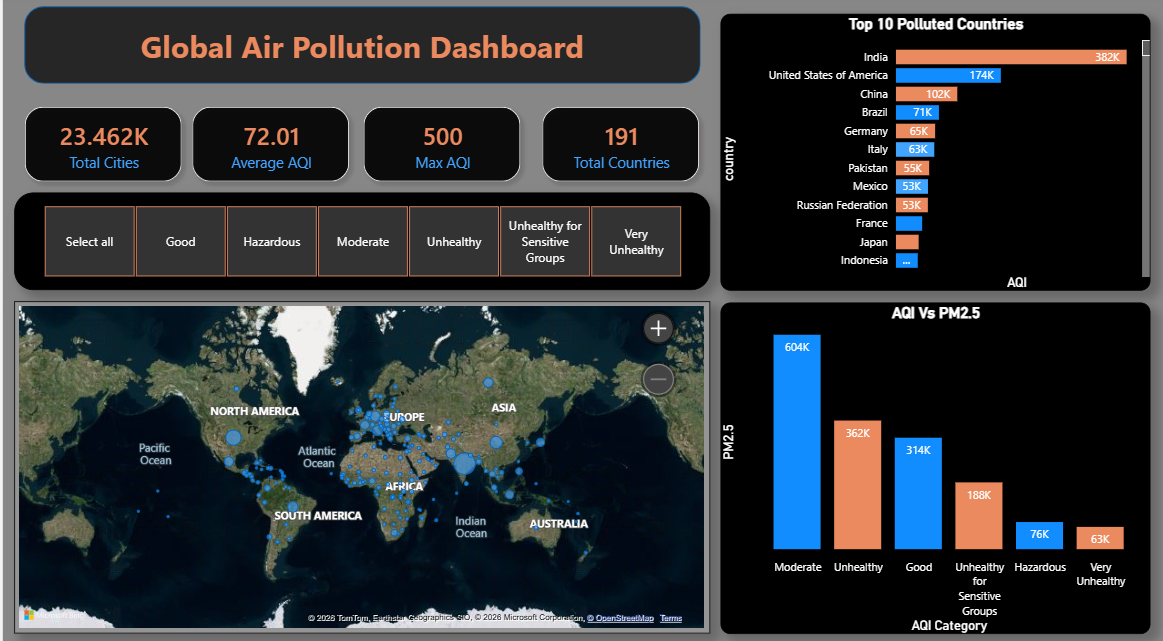

Layout of this report page (visuals, bound fields, positions):
{"tool":"powerbi","page":{"name":"Page 1","canvas":[1280,720],"ordinal":0},"visuals":[{"type":"cardVisual","title":"Total Countries","fields":{"Data":["Max(clean_air_pollution.aqi_value)"]},"box":[372.5,98.8,220,130],"z":1000},{"type":"map","fields":{"Category":["clean_air_pollution.country"],"Size":["Sum(clean_air_pollution.aqi_value)"]},"box":[12.5,336.2,763.8,365],"z":4000},{"type":"slicer","fields":{"Values":["clean_air_pollution.aqi_category"]},"box":[12.5,216.2,763.8,107.5],"z":5000},{"type":"clusteredBarChart","title":"Top 10 Polluted Countries","fields":{"Y":["Sum(clean_air_pollution.aqi_value)"],"Category":["clean_air_pollution.country"]},"box":[788,20,472,304],"z":6000},{"type":"cardVisual","title":"Total Countries","fields":{"Data":["Avg(clean_air_pollution.aqi_value)"]},"box":[183.8,98.8,220,130],"z":6005},{"type":"cardVisual","title":"Total Countries","fields":{"Data":["CountNonNull(clean_air_pollution.city)"]},"box":[0,98.8,220,130],"z":6006},{"type":"cardVisual","title":"Total Countries","fields":{"Data":["Count(clean_air_pollution.country)"]},"box":[567.5,98.8,220,130],"z":6007},{"type":"columnChart","title":"AQI Vs PM2.5","fields":{"Category":["clean_air_pollution.aqi_category"],"Y":["Sum(clean_air_pollution.pm2_5_aqi_value)"]},"box":[788,338,472,364],"z":6008},{"type":"shape","box":[23.8,12.5,742.5,85],"z":6009}]}

Visuals, with their boxes in screenshot pixels (x1, y1, x2, y2), scaled from the page's 1280x720 canvas onto the 1163x641 screenshot:
"Total Countries" cardVisual: (338, 88, 538, 204)
map - clean_air_pollution.country x Sum(clean_air_pollution.aqi_value): (11, 299, 705, 624)
slicer - clean_air_pollution.aqi_category: (11, 192, 705, 288)
"Top 10 Polluted Countries" clusteredBarChart: (716, 18, 1145, 288)
"Total Countries" cardVisual: (167, 88, 367, 204)
"Total Countries" cardVisual: (0, 88, 200, 204)
"Total Countries" cardVisual: (516, 88, 716, 204)
"AQI Vs PM2.5" columnChart: (716, 301, 1145, 625)
shape: (22, 11, 696, 87)
